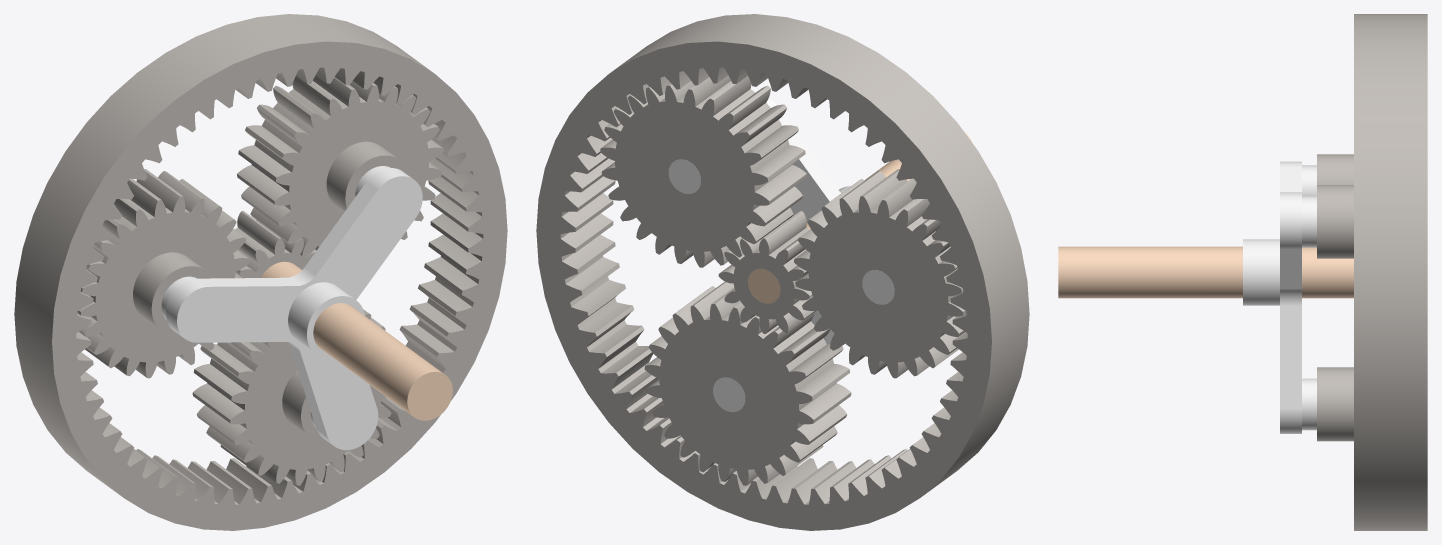
File: planetary-gear.FBX
The picture shows the model from 3 angles, left to right: view 1: azimuth 30°, elevation 25°; view 2: azimuth 150°, elevation 25°; view 3: azimuth 270°, elevation 25°; orthographic projection.
Visible parts, largest first — view 1: TeethCuts, Bore (×4), Boss-Extrude4, Boss-Extrude2; view 2: TeethCuts, Bore (×4), Boss-Extrude4, Boss-Extrude2; view 3: TeethCuts, Boss-Extrude2, Boss-Extrude4, Bore (×3).
Part boxes in pixels (left/top/right/bottom): TeethCuts: left=14, top=14, right=507, bottom=530; Bore (×4): left=77, top=75, right=443, bottom=485; Boss-Extrude4: left=161, top=166, right=422, bottom=450; Boss-Extrude2: left=261, top=261, right=452, bottom=420; TeethCuts: left=536, top=14, right=1029, bottom=530; Bore (×4): left=600, top=75, right=966, bottom=485; Boss-Extrude4: left=668, top=98, right=894, bottom=412; Boss-Extrude2: left=748, top=131, right=971, bottom=303; TeethCuts: left=1354, top=14, right=1427, bottom=530; Boss-Extrude2: left=1058, top=246, right=1353, bottom=298; Boss-Extrude4: left=1243, top=161, right=1316, bottom=433; Bore (×3): left=1317, top=154, right=1353, bottom=441.
Size of the model in its own units: 70 by 69.84 by 50.
